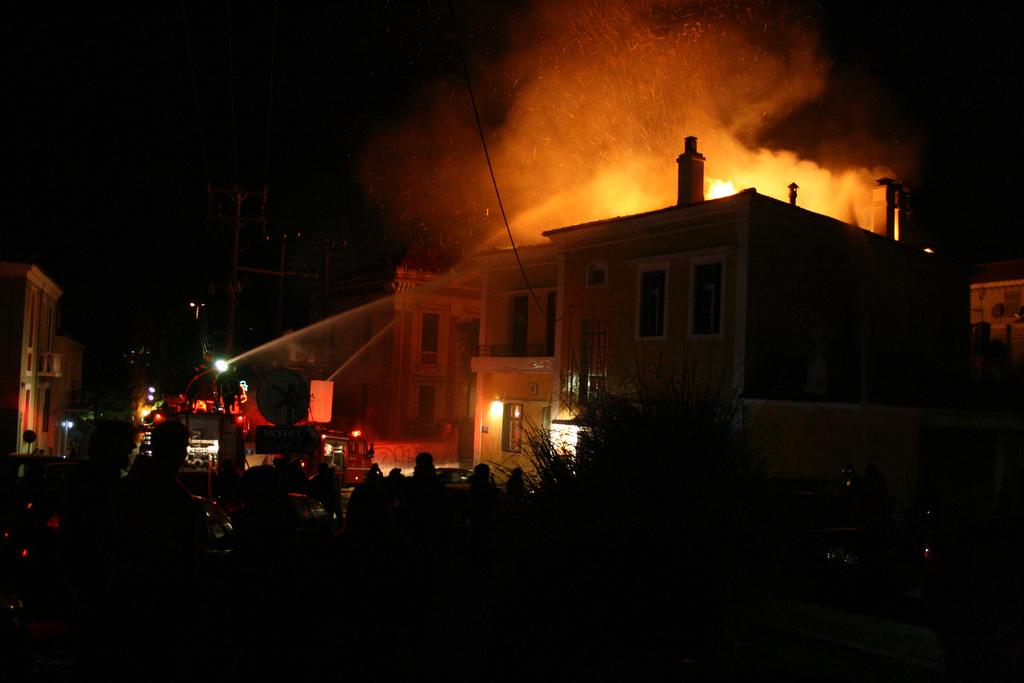fire: (693, 167, 747, 202)
